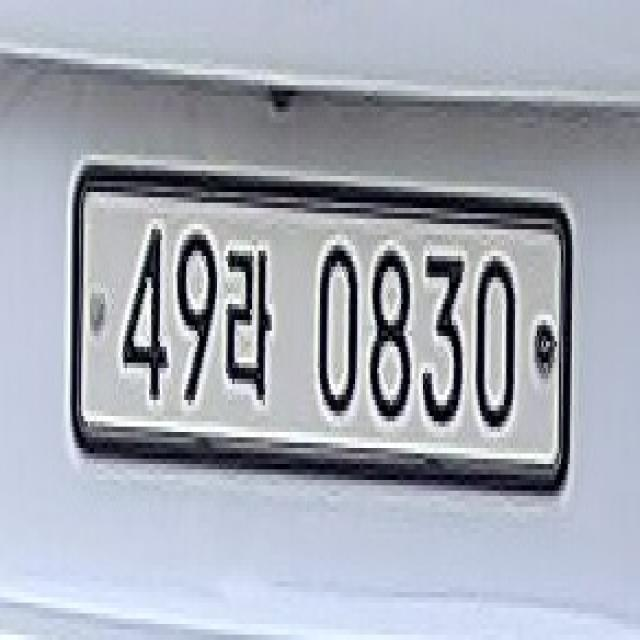0: (314, 229, 363, 442), (474, 235, 517, 440)
3: (417, 228, 472, 438)
4: (120, 212, 173, 414)
8: (368, 226, 414, 429)
9: (174, 218, 222, 413)
la: (223, 226, 280, 423)
license_plate: (60, 158, 583, 516)
